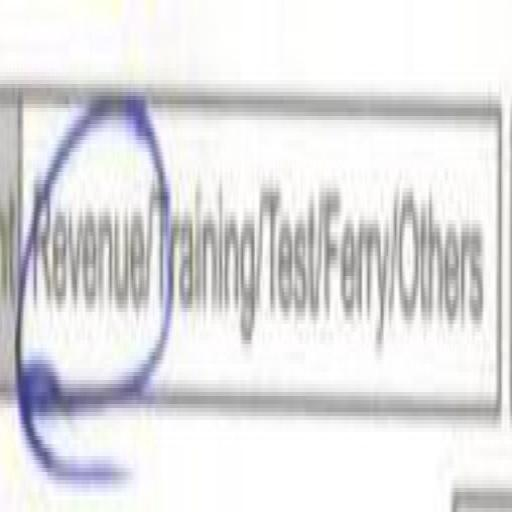check: (2, 0, 154, 507)
